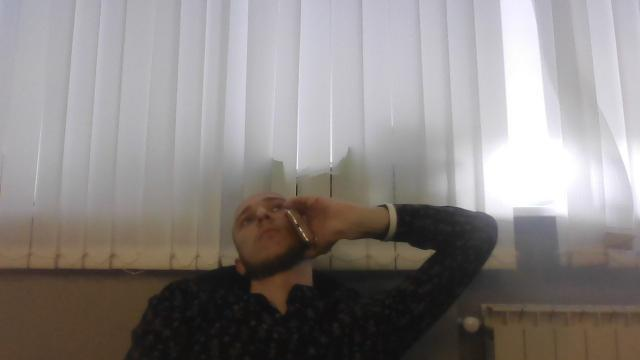PhoneUse: (283, 207, 315, 245)
